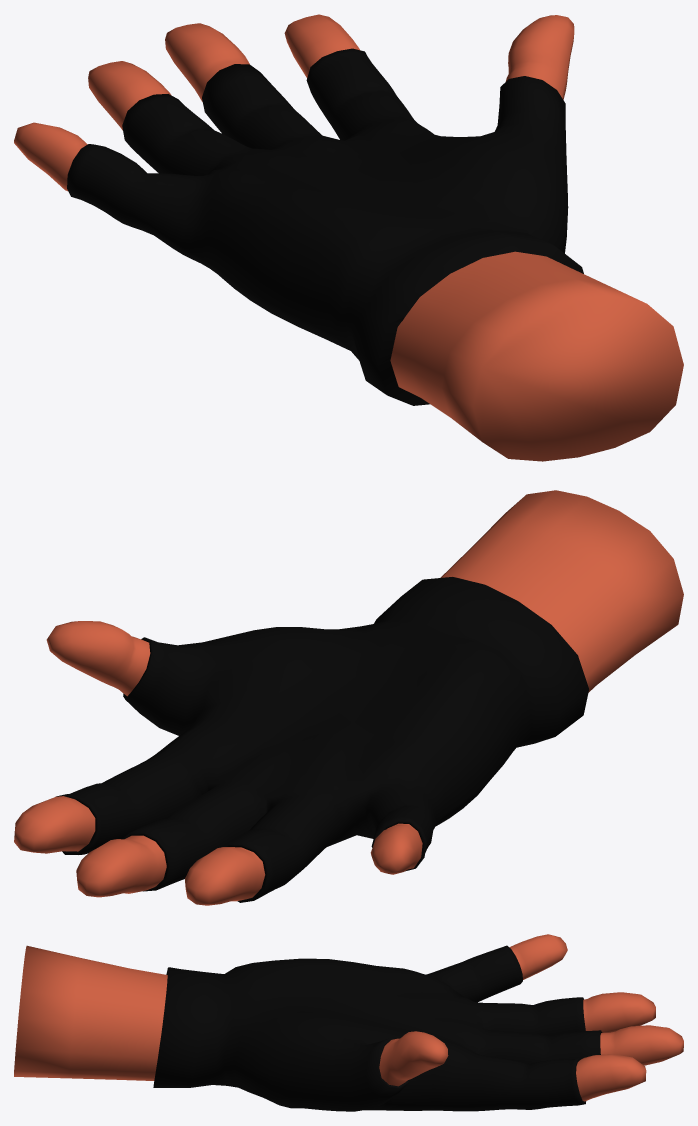
Rendered from right hand.obj.
The picture shows the model from 3 angles, top to bottom: view 1: azimuth 30°, elevation 25°; view 2: azimuth 150°, elevation 25°; view 3: azimuth 270°, elevation 25°; orthographic projection. The views are drawn at different scales.
Visible parts, largest first — view 1: right_hand; view 2: right_hand; view 3: right_hand.
Boxes of the visible parts, x1,y1,x2,y2 form: right_hand: (14,14,683,461); right_hand: (14,490,683,905); right_hand: (14,934,683,1111).
Bounding box in the file's own units: 14.8 × 5.17 × 26.02.
